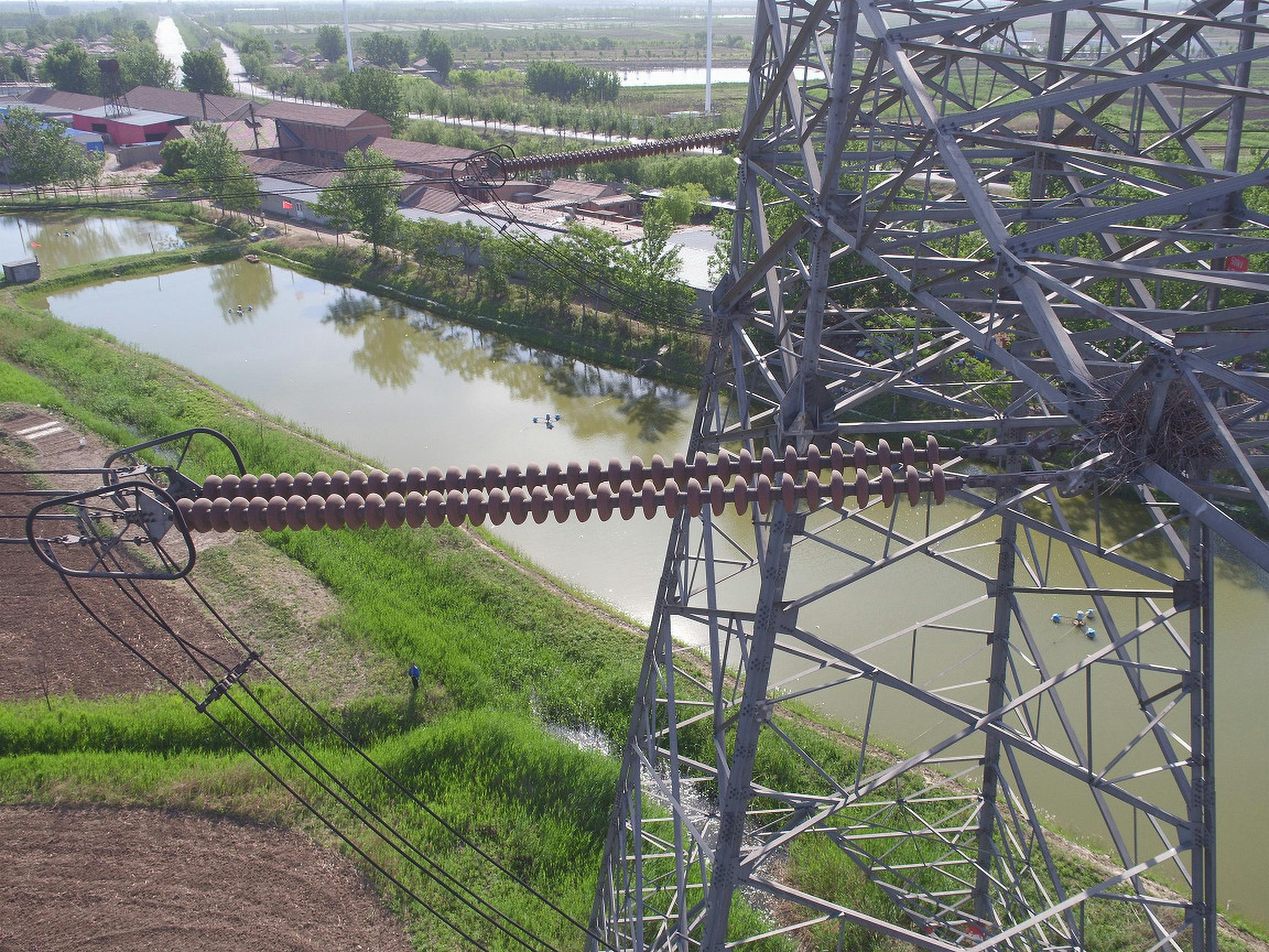insulator: (169, 431, 950, 538), (498, 126, 741, 175)
